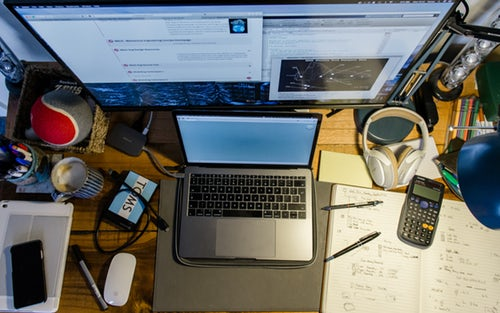phone: (10, 240, 52, 310)
